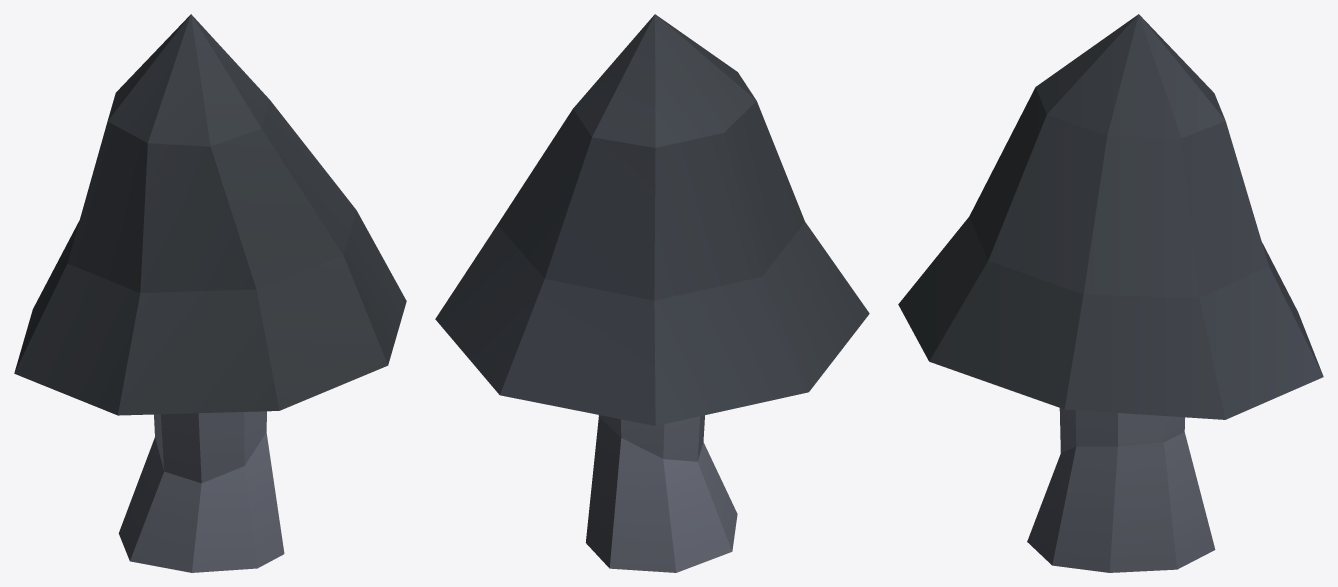
The model's file is Mushroom_17.fbx.
3 renders of one model, left to right at view 1: azimuth 30°, elevation 25°; view 2: azimuth 150°, elevation 25°; view 3: azimuth 270°, elevation 25°, orthographic.
Parts seen in each view (by area): view 1: Mushroom_17; view 2: Mushroom_17; view 3: Mushroom_17.
Boxes of the visible parts, x1=… form: Mushroom_17: x1=14, y1=14, x2=406, y2=572; Mushroom_17: x1=435, y1=14, x2=869, y2=572; Mushroom_17: x1=898, y1=14, x2=1323, y2=572.
Size of the model in its own units: 0.6493 by 0.9497 by 0.688.
